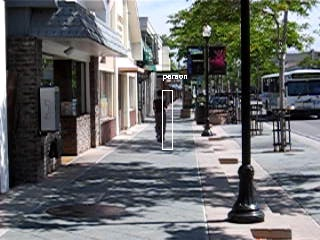person: (152, 91, 169, 144), (151, 91, 168, 144), (153, 91, 170, 144), (152, 90, 169, 143), (152, 92, 169, 145)
target_negative: (64, 121, 129, 204), (173, 74, 313, 98), (35, 185, 130, 204), (234, 19, 254, 50), (176, 234, 305, 238), (293, 186, 301, 217)
